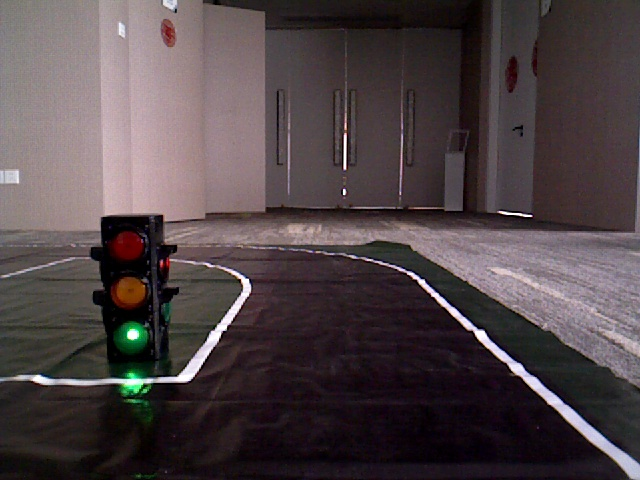green: (100, 223, 152, 363)
